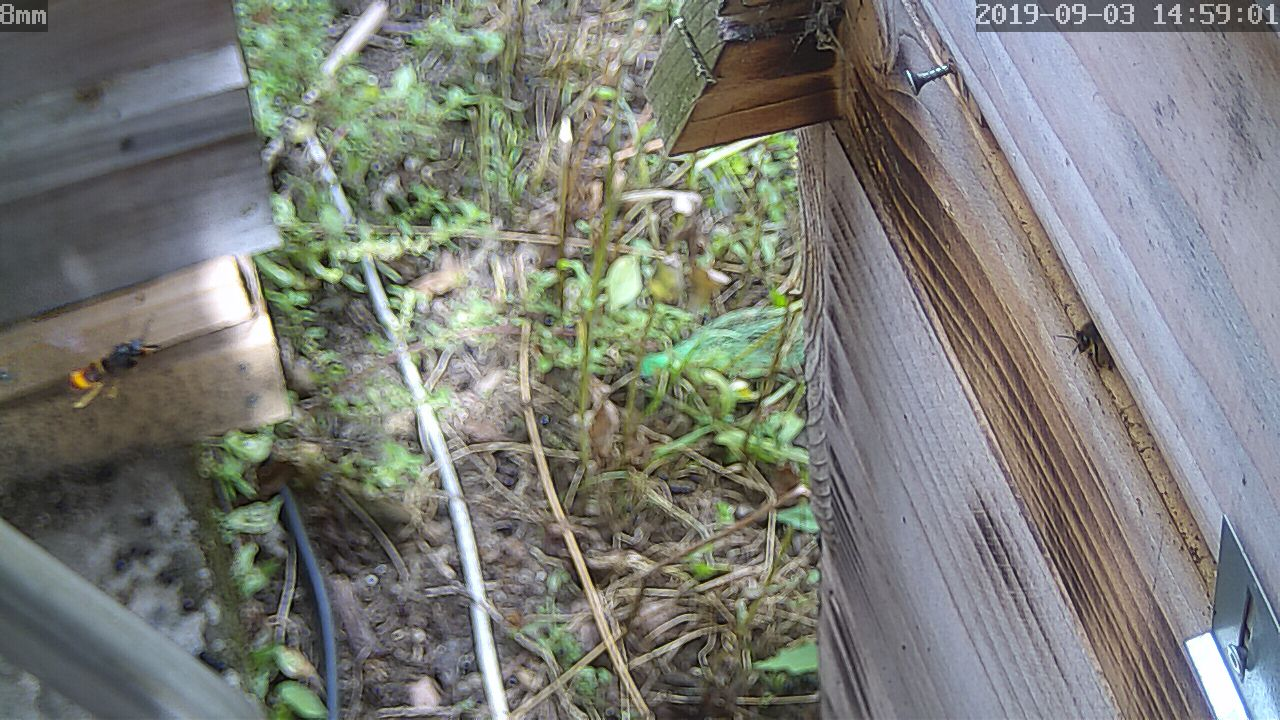bee: (1065, 313, 1111, 368)
hornet: (71, 334, 168, 402)
